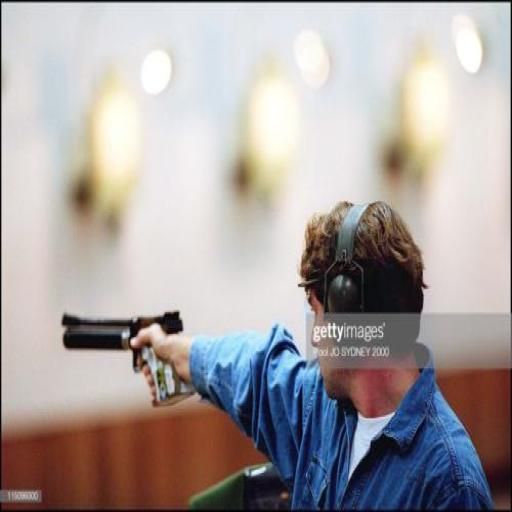shooting: (130, 196, 496, 510)
